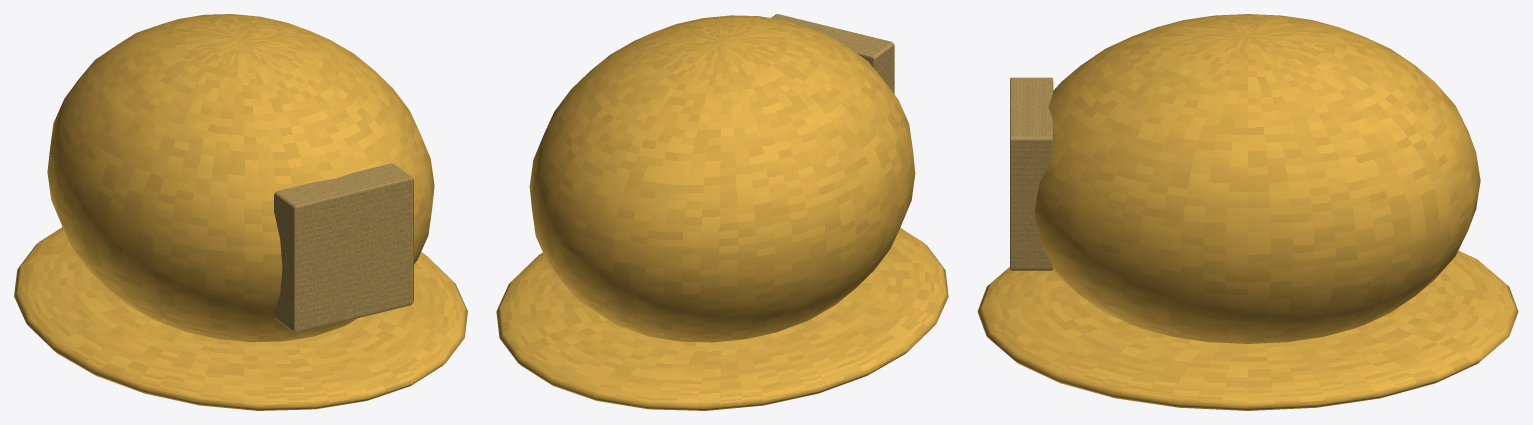
Rendered from helmet.glb.
3 renders of one model, left to right at view 1: azimuth 30°, elevation 25°; view 2: azimuth 150°, elevation 25°; view 3: azimuth 270°, elevation 25°, orthographic. The views are drawn at different scales.
Parts seen in each view (by area): view 1: crown, brim, shield; view 2: crown, brim, shield; view 3: crown, brim, shield.
Boxes of the visible parts, left/top/right/bottom form: crown: left=47, top=14, right=434, bottom=342; brim: left=14, top=227, right=467, bottom=410; shield: left=274, top=163, right=413, bottom=333; crown: left=529, top=15, right=915, bottom=342; brim: left=496, top=228, right=948, bottom=410; shield: left=771, top=14, right=894, bottom=93; crown: left=1034, top=14, right=1480, bottom=343; brim: left=977, top=250, right=1518, bottom=410; shield: left=1010, top=77, right=1053, bottom=270.
Bounding box in the file's own units: 0.32 × 0.234 × 0.38.
Materials: 2 (2 with a texture image).
